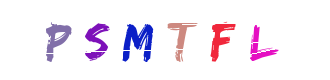F: (147, 0, 227, 80)
L: (179, 0, 259, 80)
M: (124, 0, 204, 80)
P: (35, 0, 115, 80)
S: (98, 0, 178, 80)
T: (126, 0, 206, 80)
